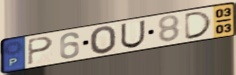6: (58, 31, 81, 60)
8: (156, 15, 184, 45)
D: (183, 10, 214, 42)
O: (89, 25, 119, 56)
P: (26, 36, 55, 67)
U: (119, 19, 147, 50)
